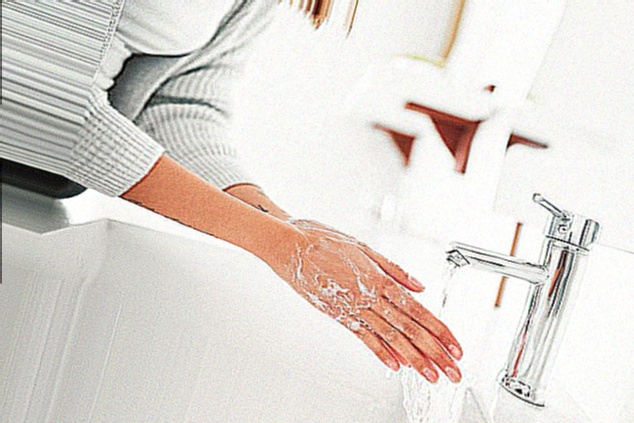washing hand: (211, 44, 633, 422)
